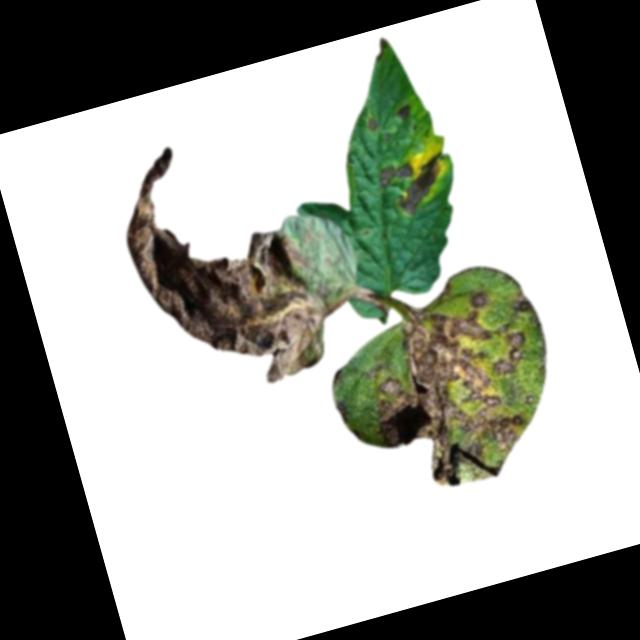Early_blight: (103, 113, 349, 410), (346, 272, 581, 506), (370, 145, 457, 221), (360, 113, 380, 133), (393, 101, 413, 121)
